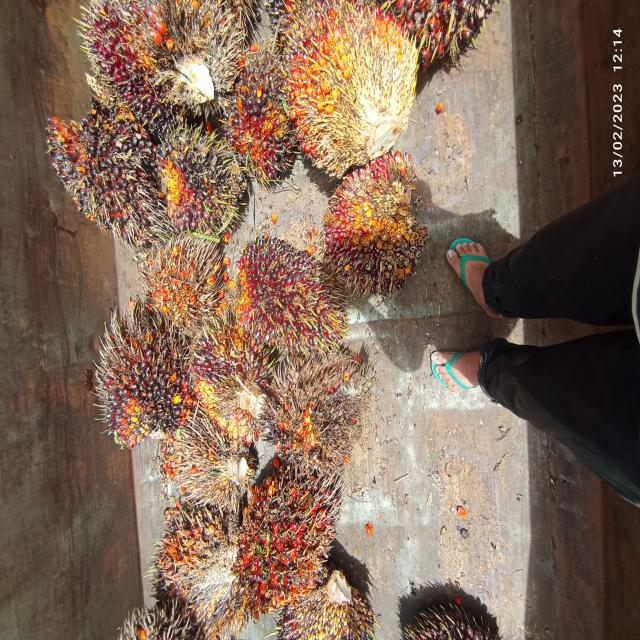fraksi 00: (35, 35, 207, 250), (146, 132, 258, 239)
fraksi 1: (73, 288, 193, 467), (80, 0, 266, 95), (228, 233, 344, 379), (211, 38, 313, 172), (187, 338, 279, 439)
fraksi 3: (317, 143, 435, 300)
fraksi 4: (276, 0, 455, 195), (222, 402, 334, 640), (266, 350, 366, 460), (142, 217, 222, 340), (161, 424, 277, 503), (152, 493, 231, 583)
